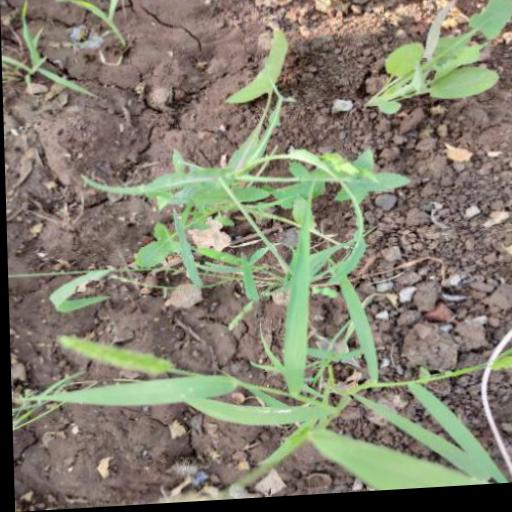weed: (41, 122, 463, 464)
